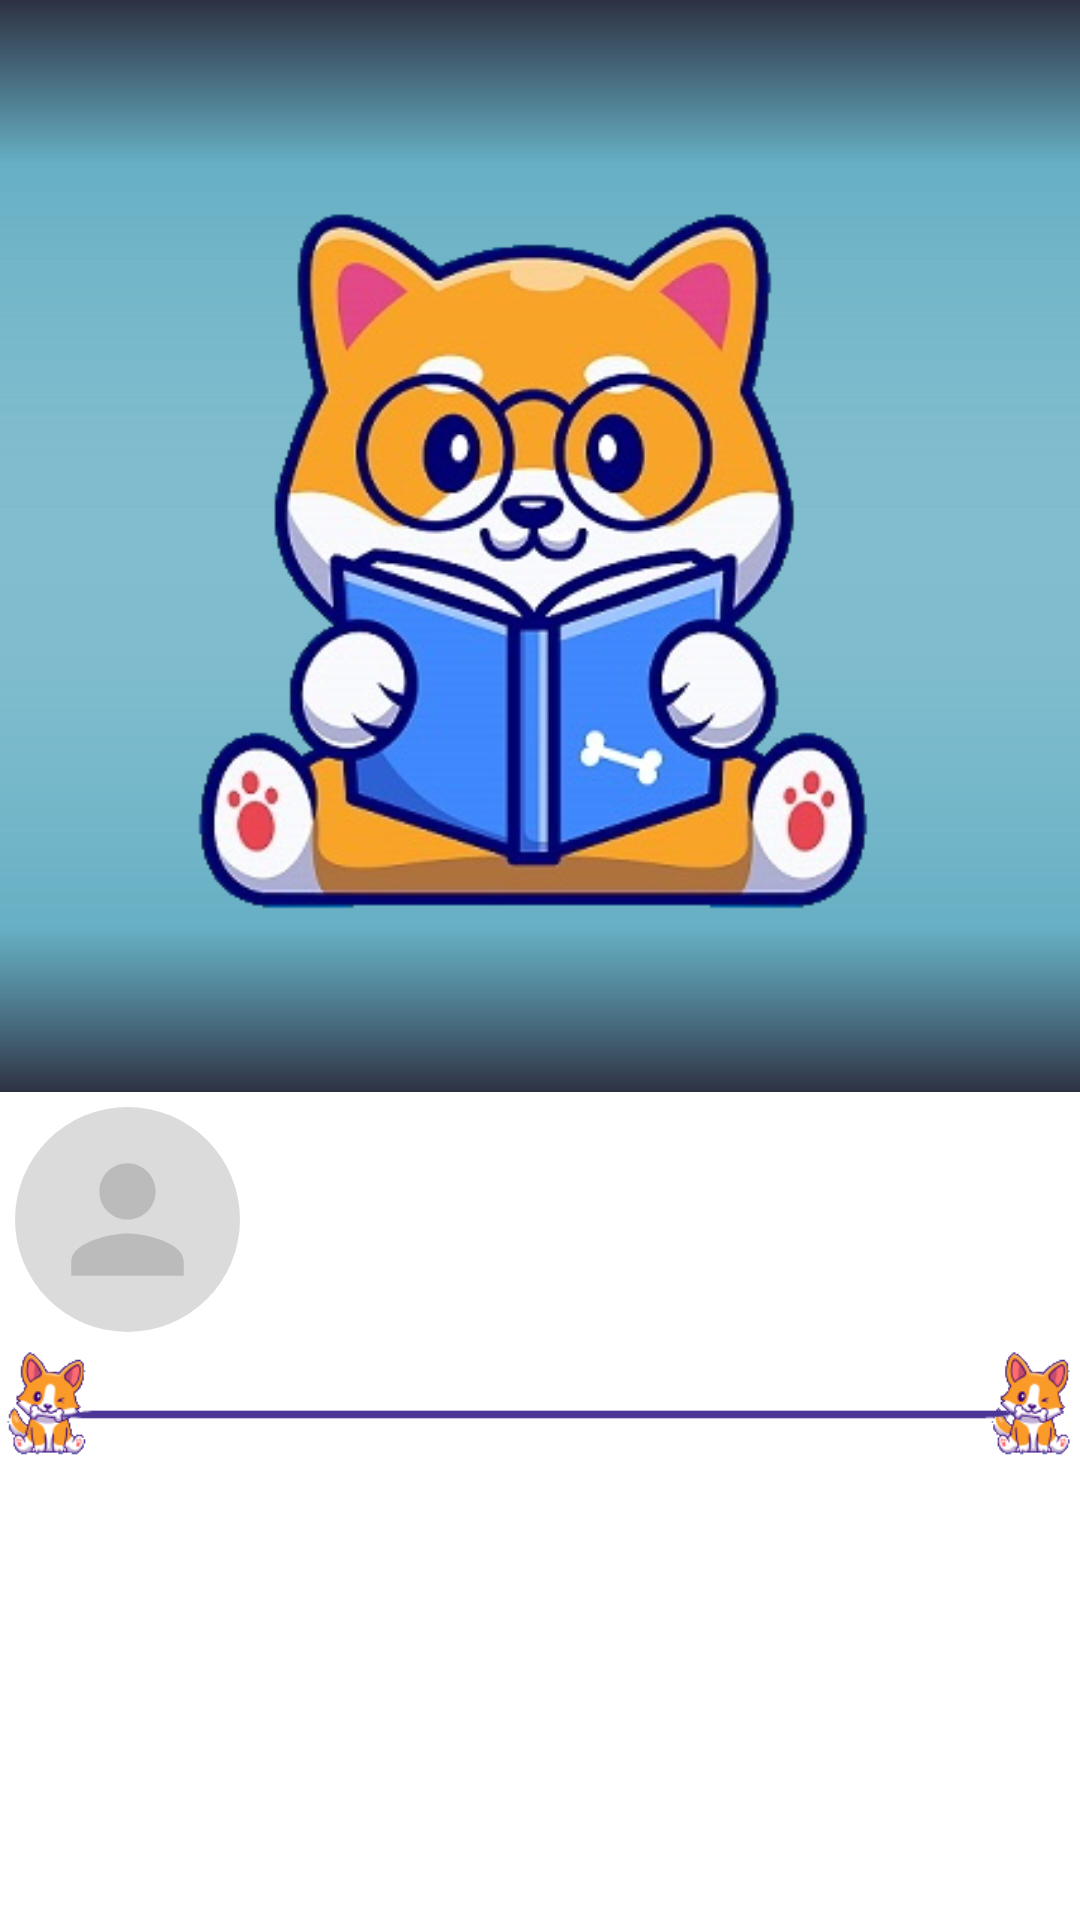

Icon bounding boxes for this 1080w x 1920h phone screenshot, format (x1, y1, x2, y2):
user picture: (15, 1107, 240, 1332)
